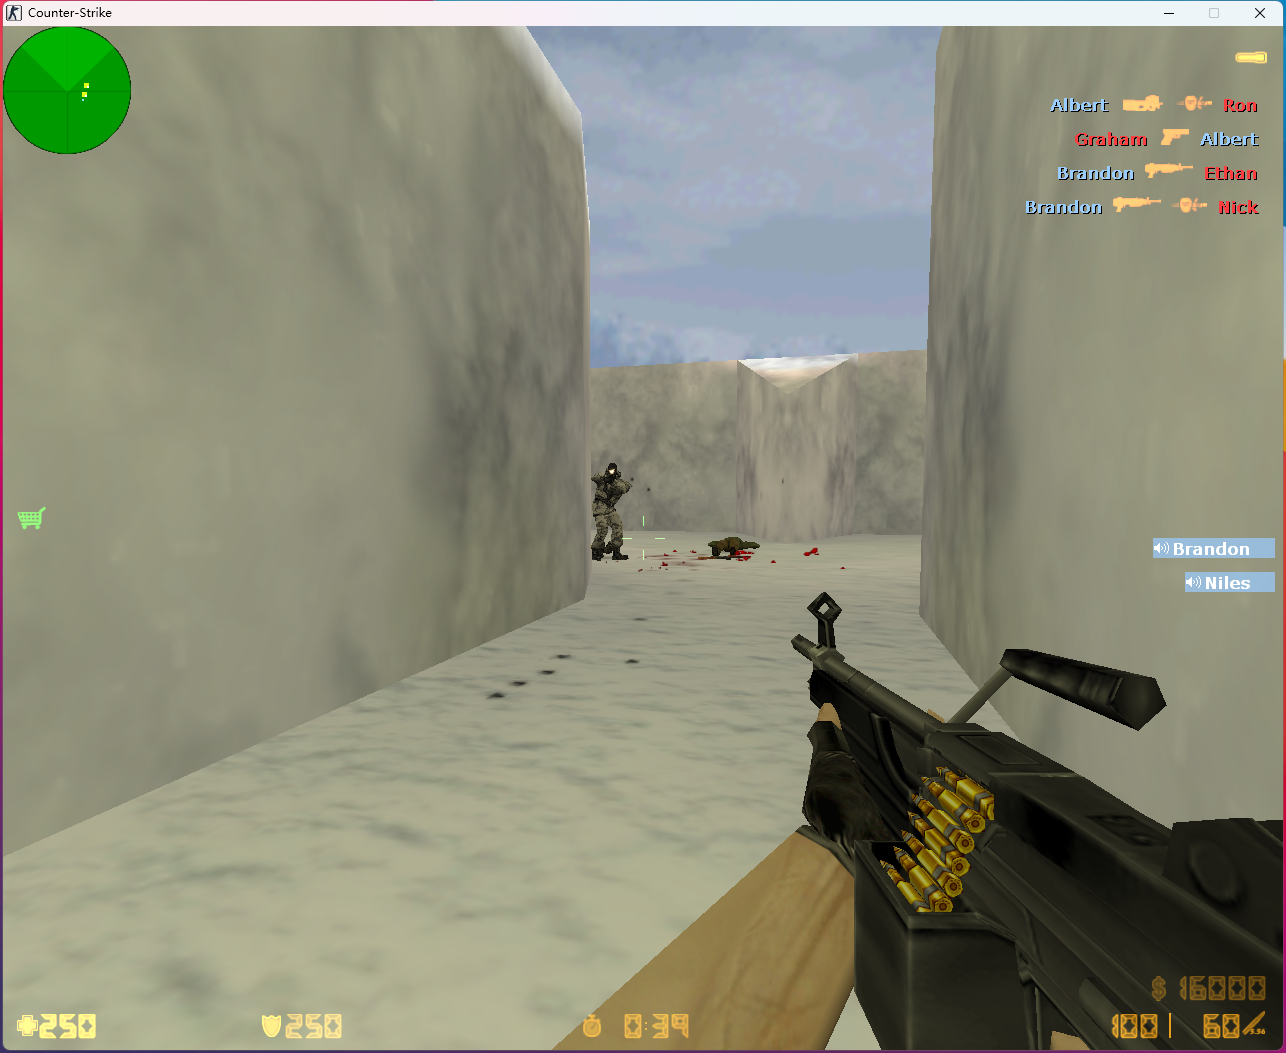T: (589, 460, 634, 562)
dead: (705, 533, 766, 557)
